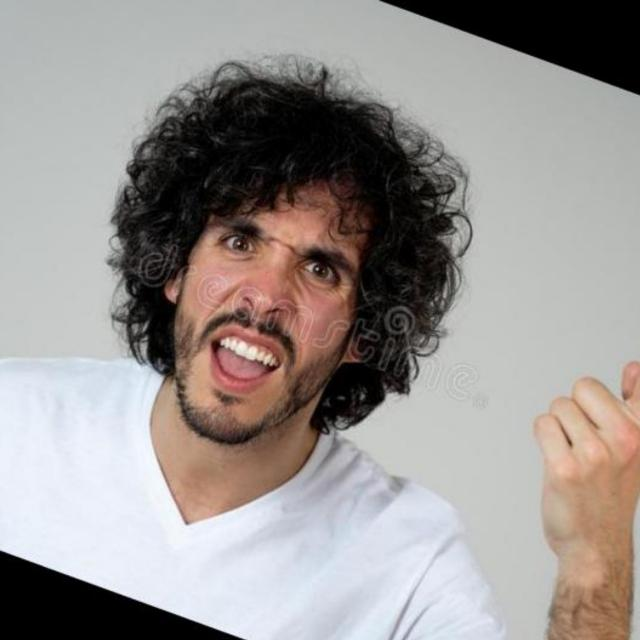Angry: (147, 71, 335, 538)
